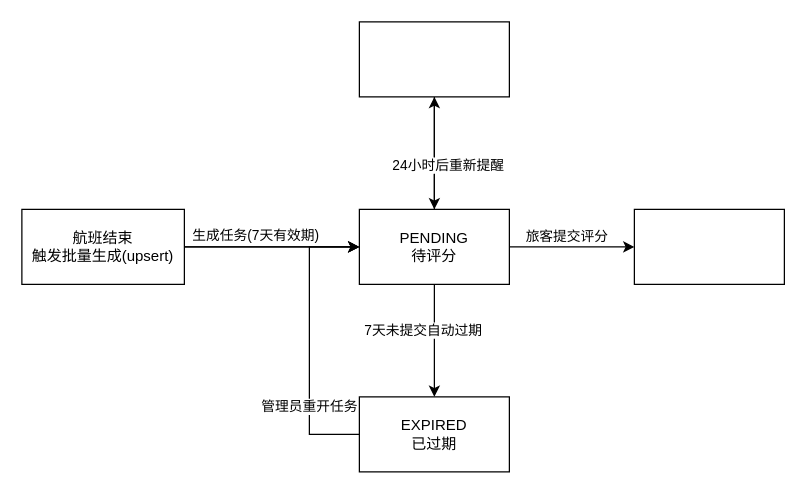
The diagram is 806 pixels wide and 494 high, and some of its shapes have lost their labels. Here are the shapes that lost their labels. From the top down, the centre of each, then its label:
(433,59): DEFERRED 已暂缓
(708,246): SUBMITTED 已提交
